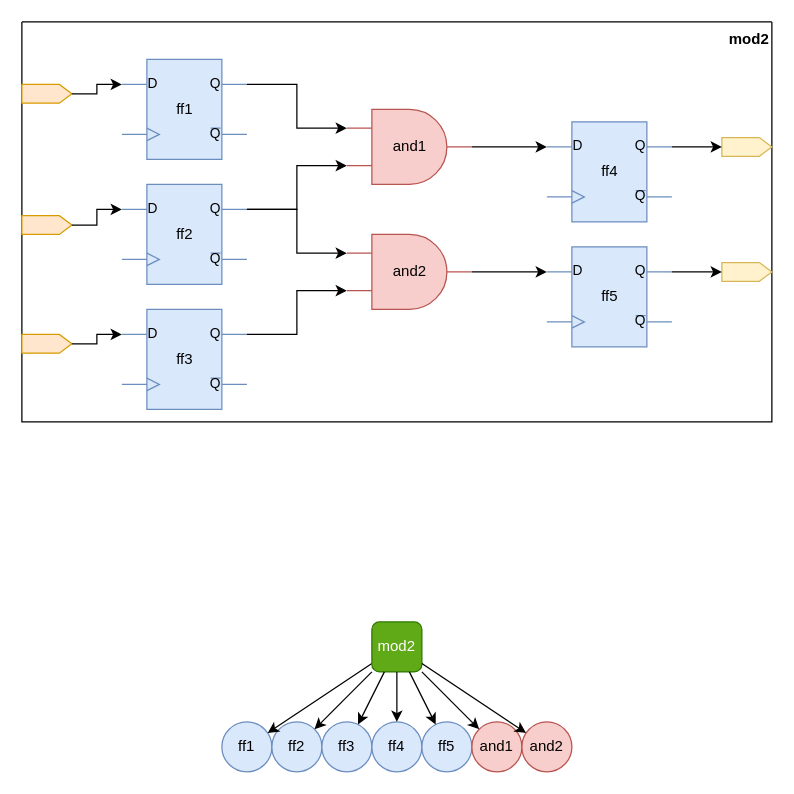
The diagram is 794 pixels wide and 794 high, and some of its shapes have lost their labels. The shapes that lost their labels are listed below. From the top down, each one's box as (x1, y1, x2, y2) in pixels, then its label:
(21, 83, 72, 103): in1
(721, 136, 772, 156): out1
(21, 214, 72, 234): in2
(721, 261, 772, 281): out2
(21, 333, 72, 353): in3
